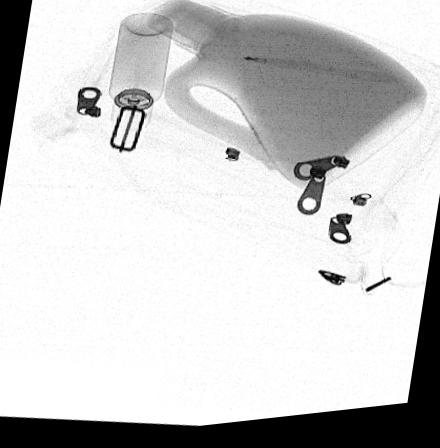Sprayer: (109, 15, 173, 135)
